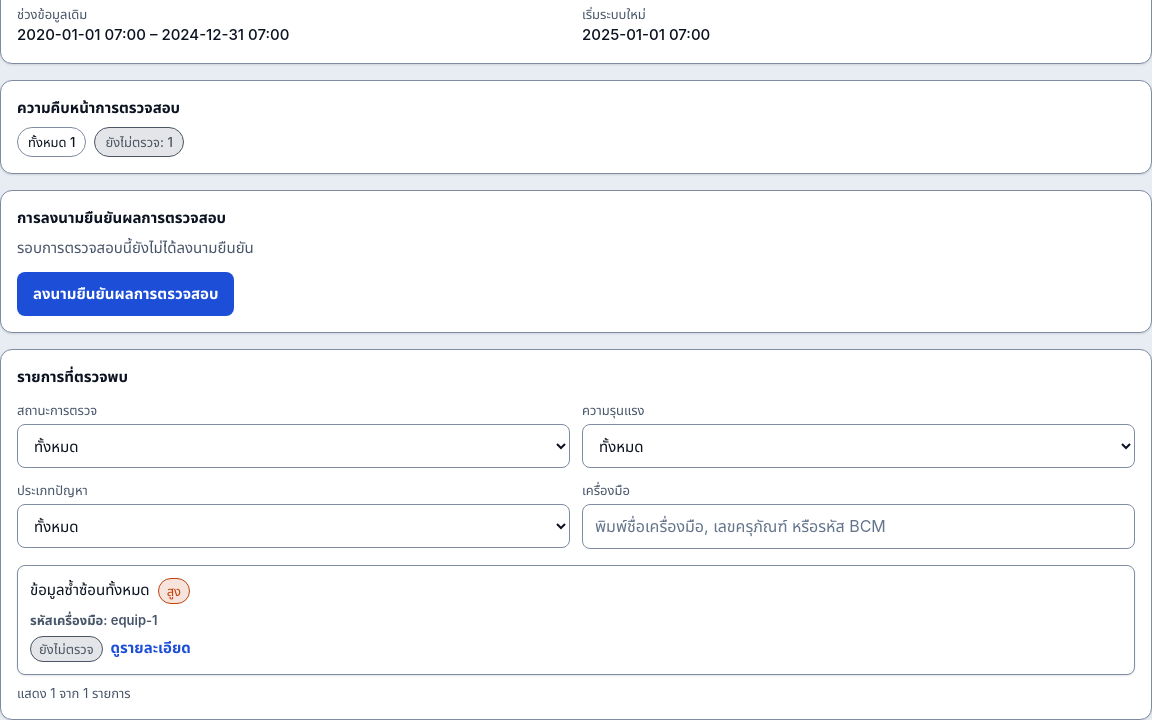
it: ReconciliationRunDetailPage -- disposition › renders all four disposition options and never confirmed_pair
The image size is (1152, 720).
(page scrolled)
Click the button "ข้อมูลซ้ำซ้อนทั้งหมด": (90, 590) [17, 565, 1135, 675]
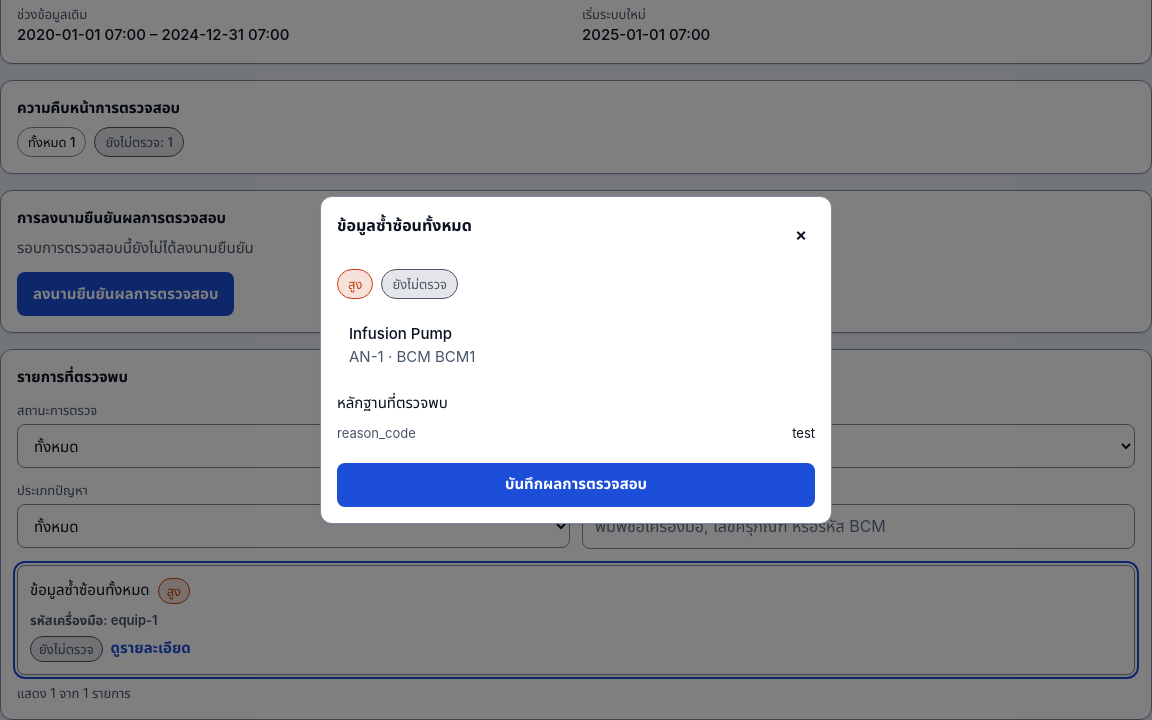
Click the button "บันทึกผลการตรวจสอบ": (576, 485) [337, 463, 815, 507]
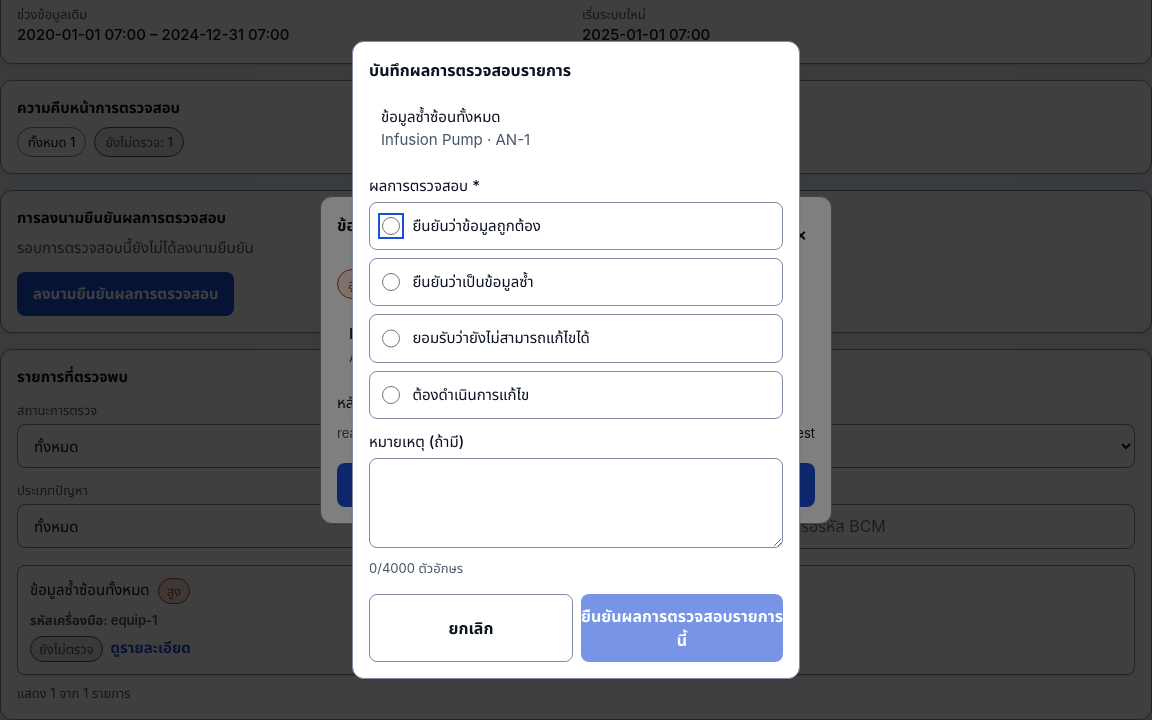
Result: the number of radio buttons is 4 at [382, 217, 400, 235]; [382, 273, 400, 291]; [382, 329, 400, 348]; [382, 386, 400, 404]
Result: the text "ยืนยันว่าข้อมูลถูกต้อง" is shown at [412, 215, 541, 237]
Result: the text "ยืนยันว่าเป็นข้อมูลซ้ำ" is shown at [412, 271, 534, 293]
